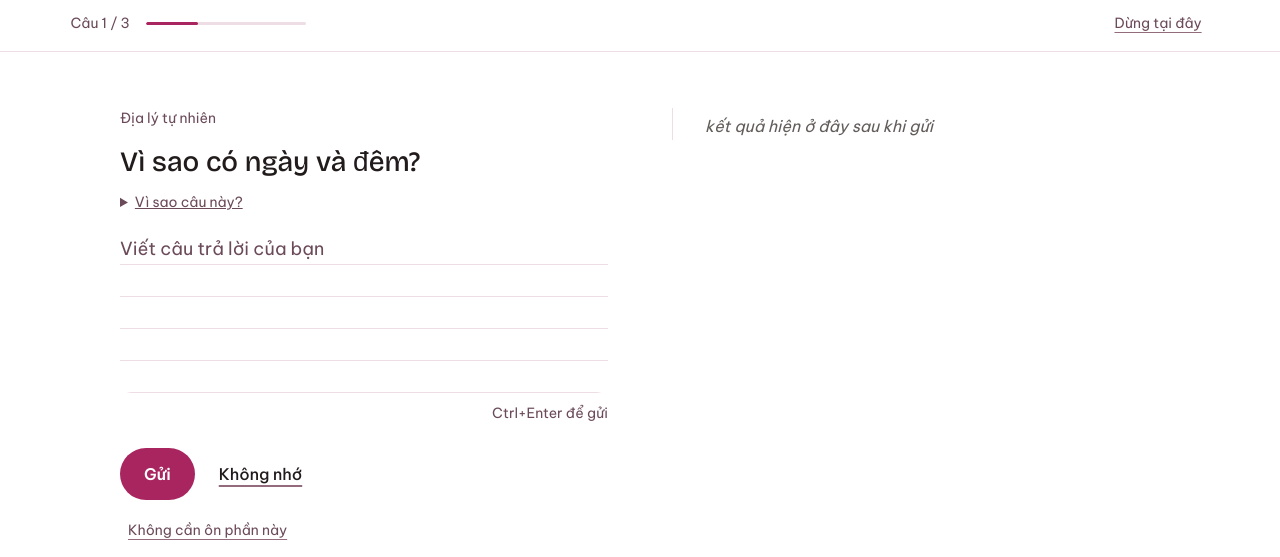
Test case: Chấm sai, Bỏ câu này (T2.19, US-09) › US-09 AC1: Chấm sai swaps in place for the two choices, no dialog
This screenshot has width=1280, height=557.
Type "Vì Trái Đất tự quay." into the text box labelled "câu trả lời của bạn" at {"x": 364, "y": 313}, box [120, 233, 608, 393]
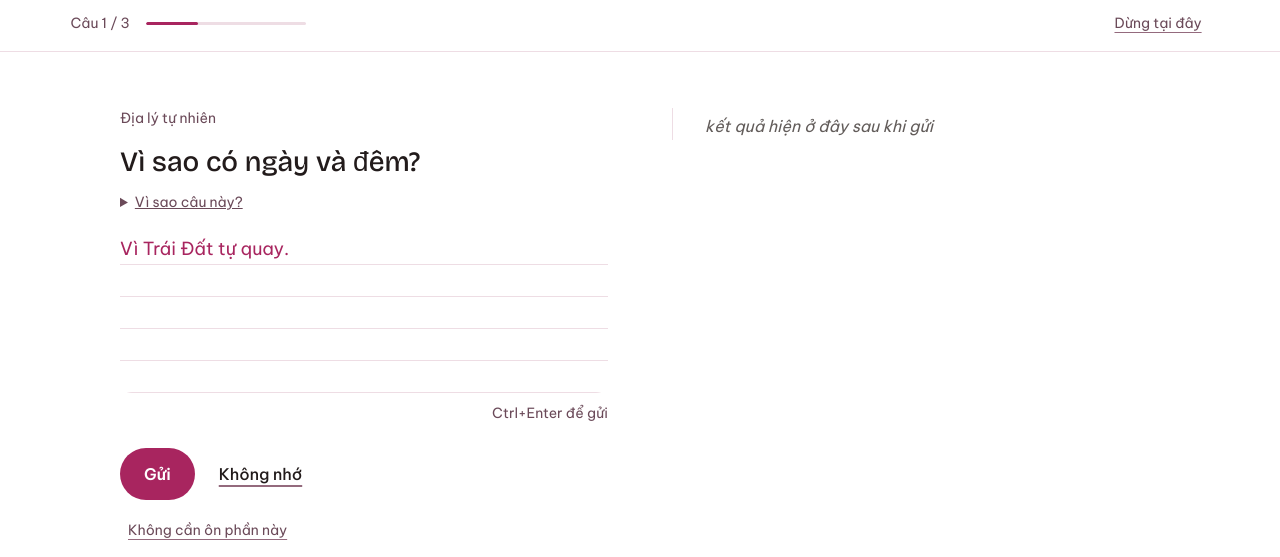
Click the button "Gửi" at {"x": 157, "y": 474}, box [120, 448, 195, 500]
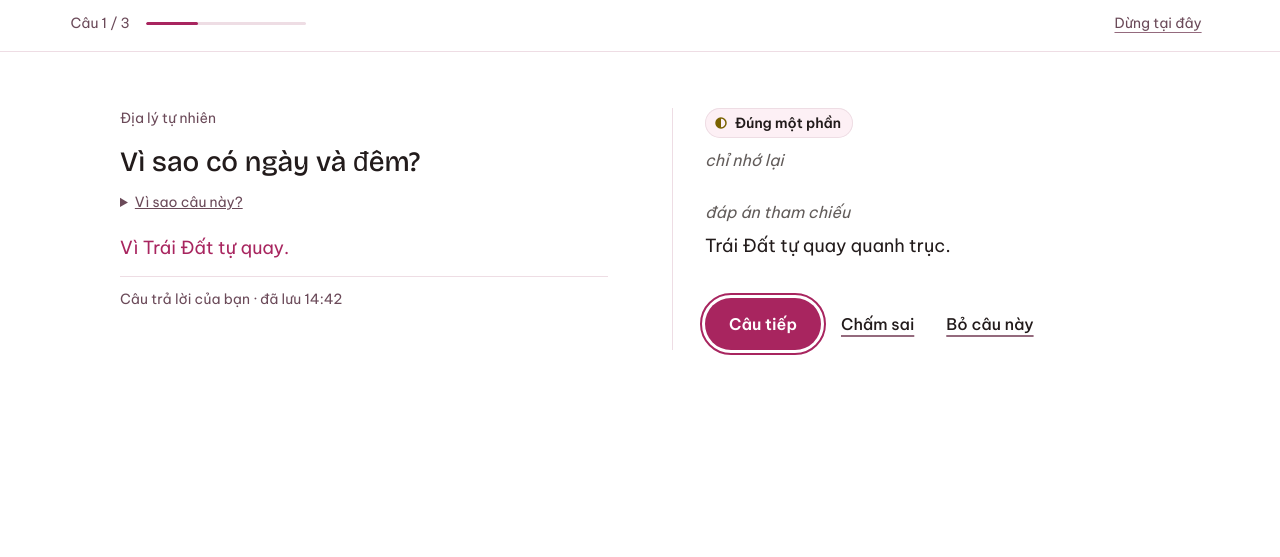
Expected: the text "Đúng một phần" is shown, [705, 108, 853, 138]
Expected: the button "Bỏ câu này" is shown, [934, 302, 1046, 346]
Click the button "Chấm sai" at {"x": 878, "y": 324}, box [829, 302, 926, 346]
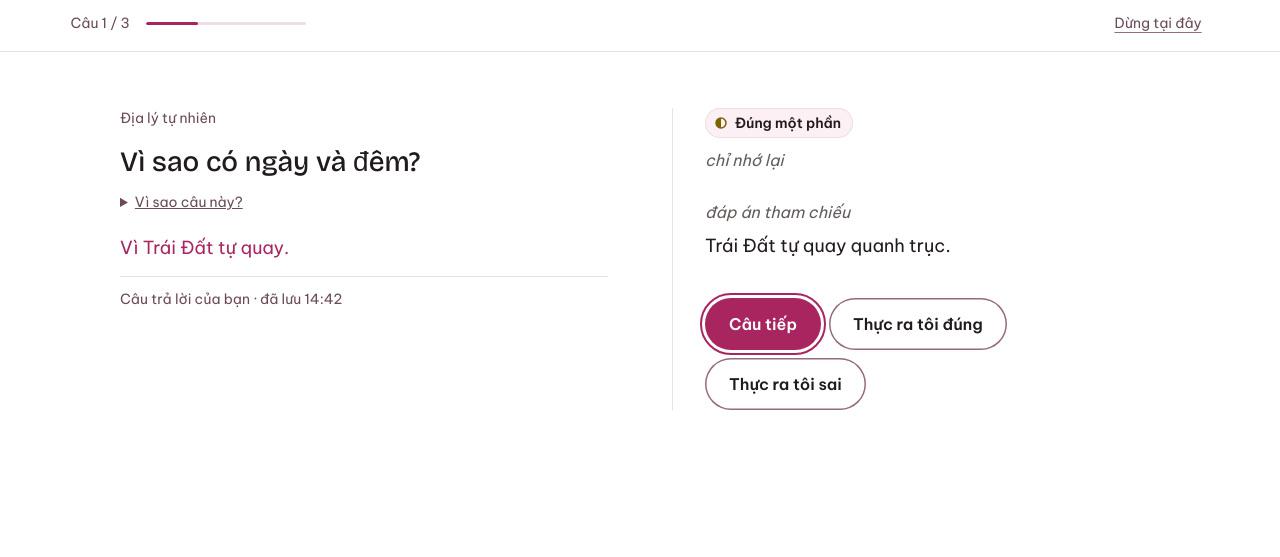
Expected: the button "Câu tiếp" is shown, [705, 298, 821, 350]
Expected: the button "Thực ra tôi đúng" is shown, [829, 298, 1007, 350]
Expected: the button "Thực ra tôi sai" is shown, [705, 358, 866, 410]
